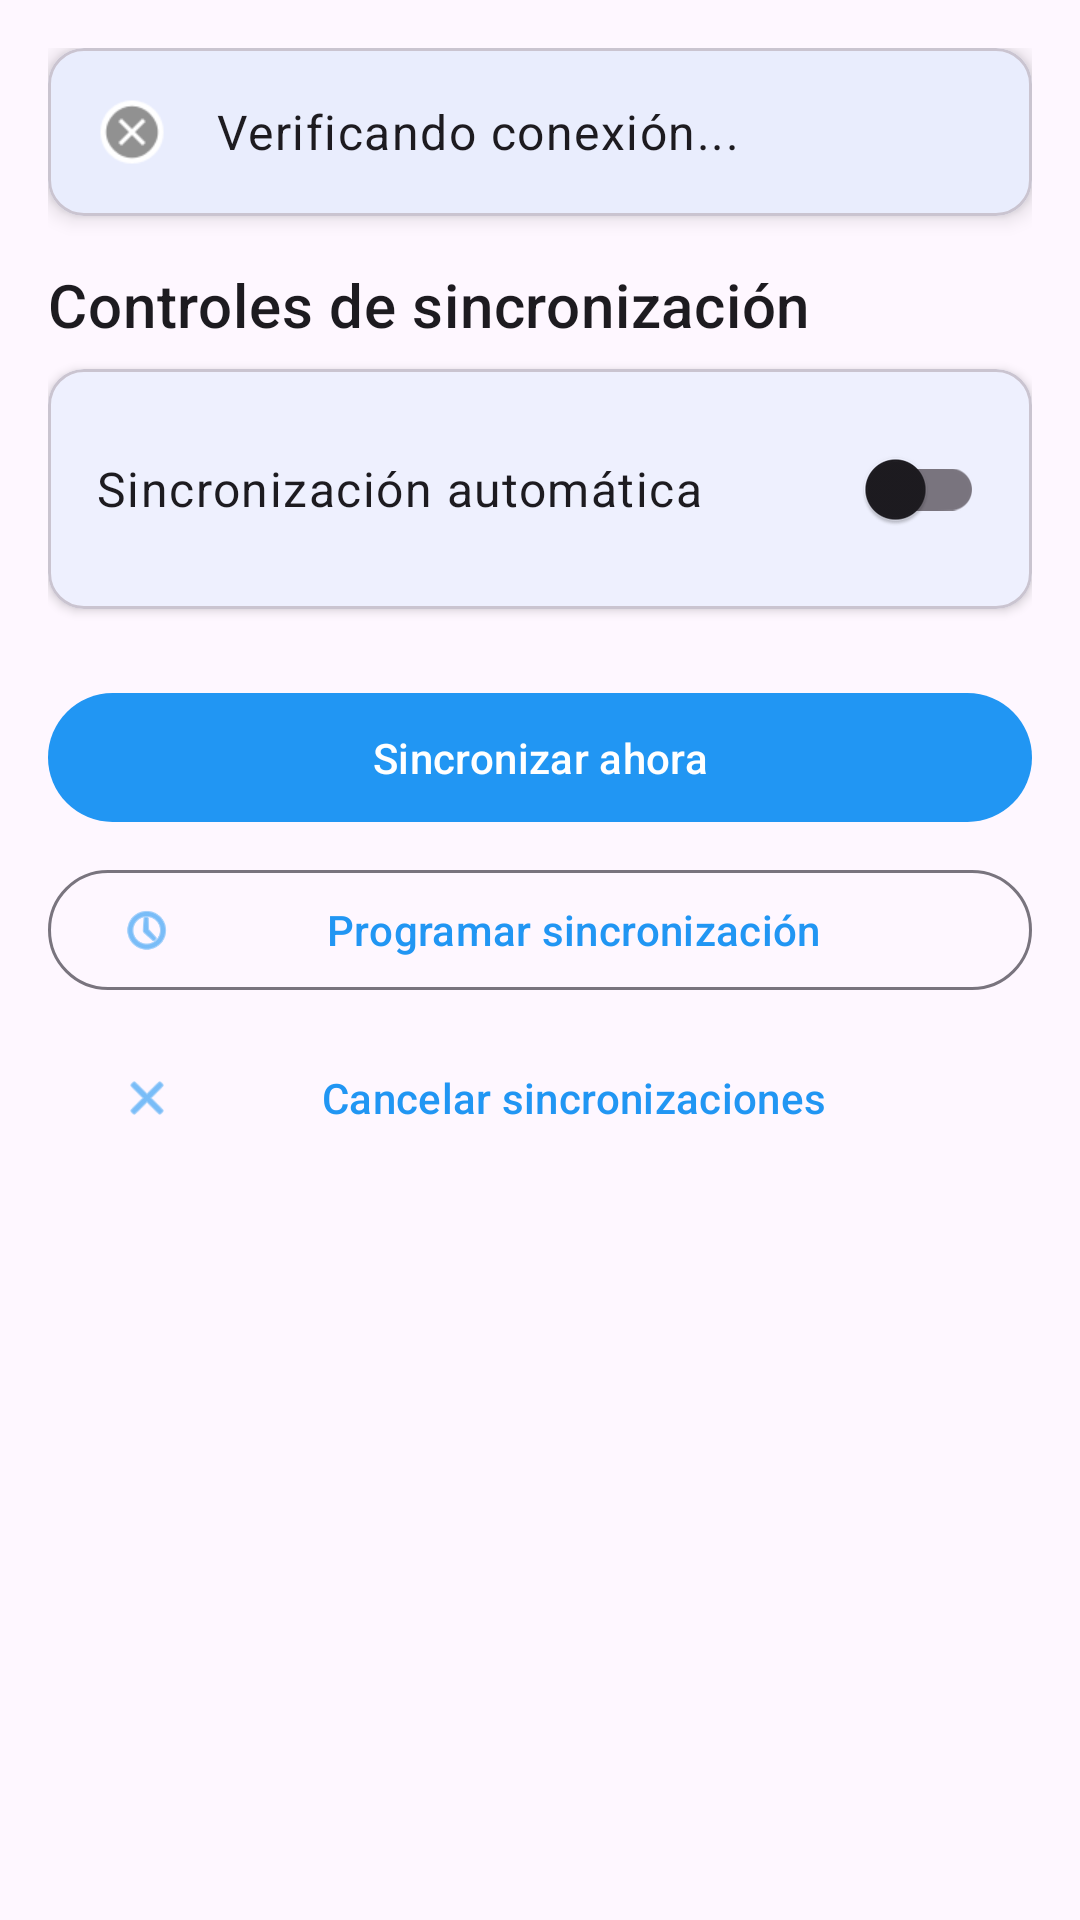

Screen size 1080 × 1920. Icon name, then its box in pixels as box=[x1, y1, x2, y2]:
presence offline: box=[106, 106, 158, 158]
